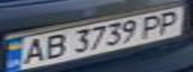3: (69, 27, 93, 54), (106, 20, 127, 47)
7: (87, 24, 109, 51)
9: (118, 18, 145, 43)
A: (15, 35, 51, 66)
B: (36, 32, 69, 62)
P: (151, 8, 187, 35), (136, 12, 169, 38)
